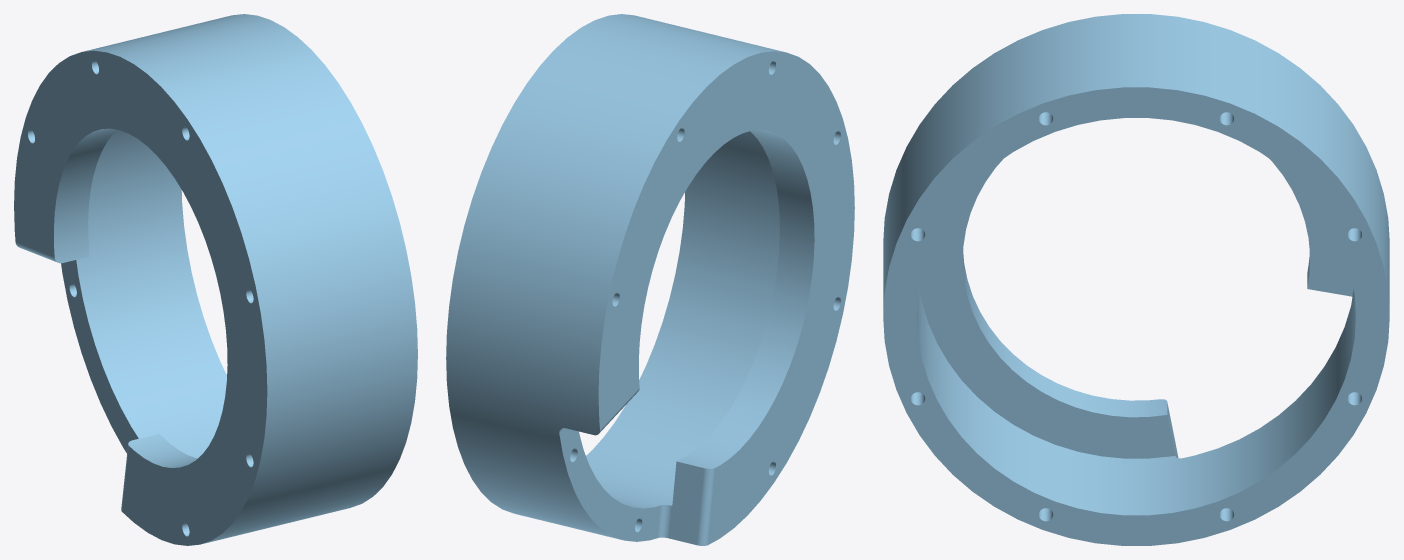
The picture shows the model from 3 angles, left to right: view 1: azimuth 30°, elevation 25°; view 2: azimuth 150°, elevation 25°; view 3: azimuth 270°, elevation 25°; orthographic projection.
Parts seen in each view (by area): view 1: mesh3913, mesh3917, mesh3909, mesh3914, mesh3905; view 2: mesh3913, mesh3917, mesh3909, mesh3914, mesh3905, mesh3912, mesh3915; view 3: mesh3918, mesh3913, mesh3909, mesh3910, mesh3914.
Part boxes in pixels (x1=…): mesh3913: x1=82, y1=14, x2=417, y2=544; mesh3917: x1=14, y1=50, x2=267, y2=545; mesh3909: x1=76, y1=130, x2=226, y2=458; mesh3914: x1=54, y1=128, x2=197, y2=467; mesh3905: x1=61, y1=260, x2=138, y2=453; mesh3913: x1=446, y1=14, x2=784, y2=539; mesh3917: x1=598, y1=51, x2=854, y2=544; mesh3909: x1=586, y1=131, x2=779, y2=508; mesh3914: x1=677, y1=130, x2=814, y2=468; mesh3905: x1=559, y1=428, x2=660, y2=541; mesh3912: x1=669, y1=461, x2=703, y2=545; mesh3915: x1=697, y1=468, x2=714, y2=545; mesh3918: x1=883, y1=87, x2=1389, y2=545; mesh3913: x1=883, y1=14, x2=1389, y2=310; mesh3909: x1=917, y1=288, x2=1355, y2=515; mesh3910: x1=919, y1=159, x2=1353, y2=458; mesh3914: x1=963, y1=252, x2=1309, y2=417.
Size of the model in its own units: 0.036 by 0.1048 by 0.105.
